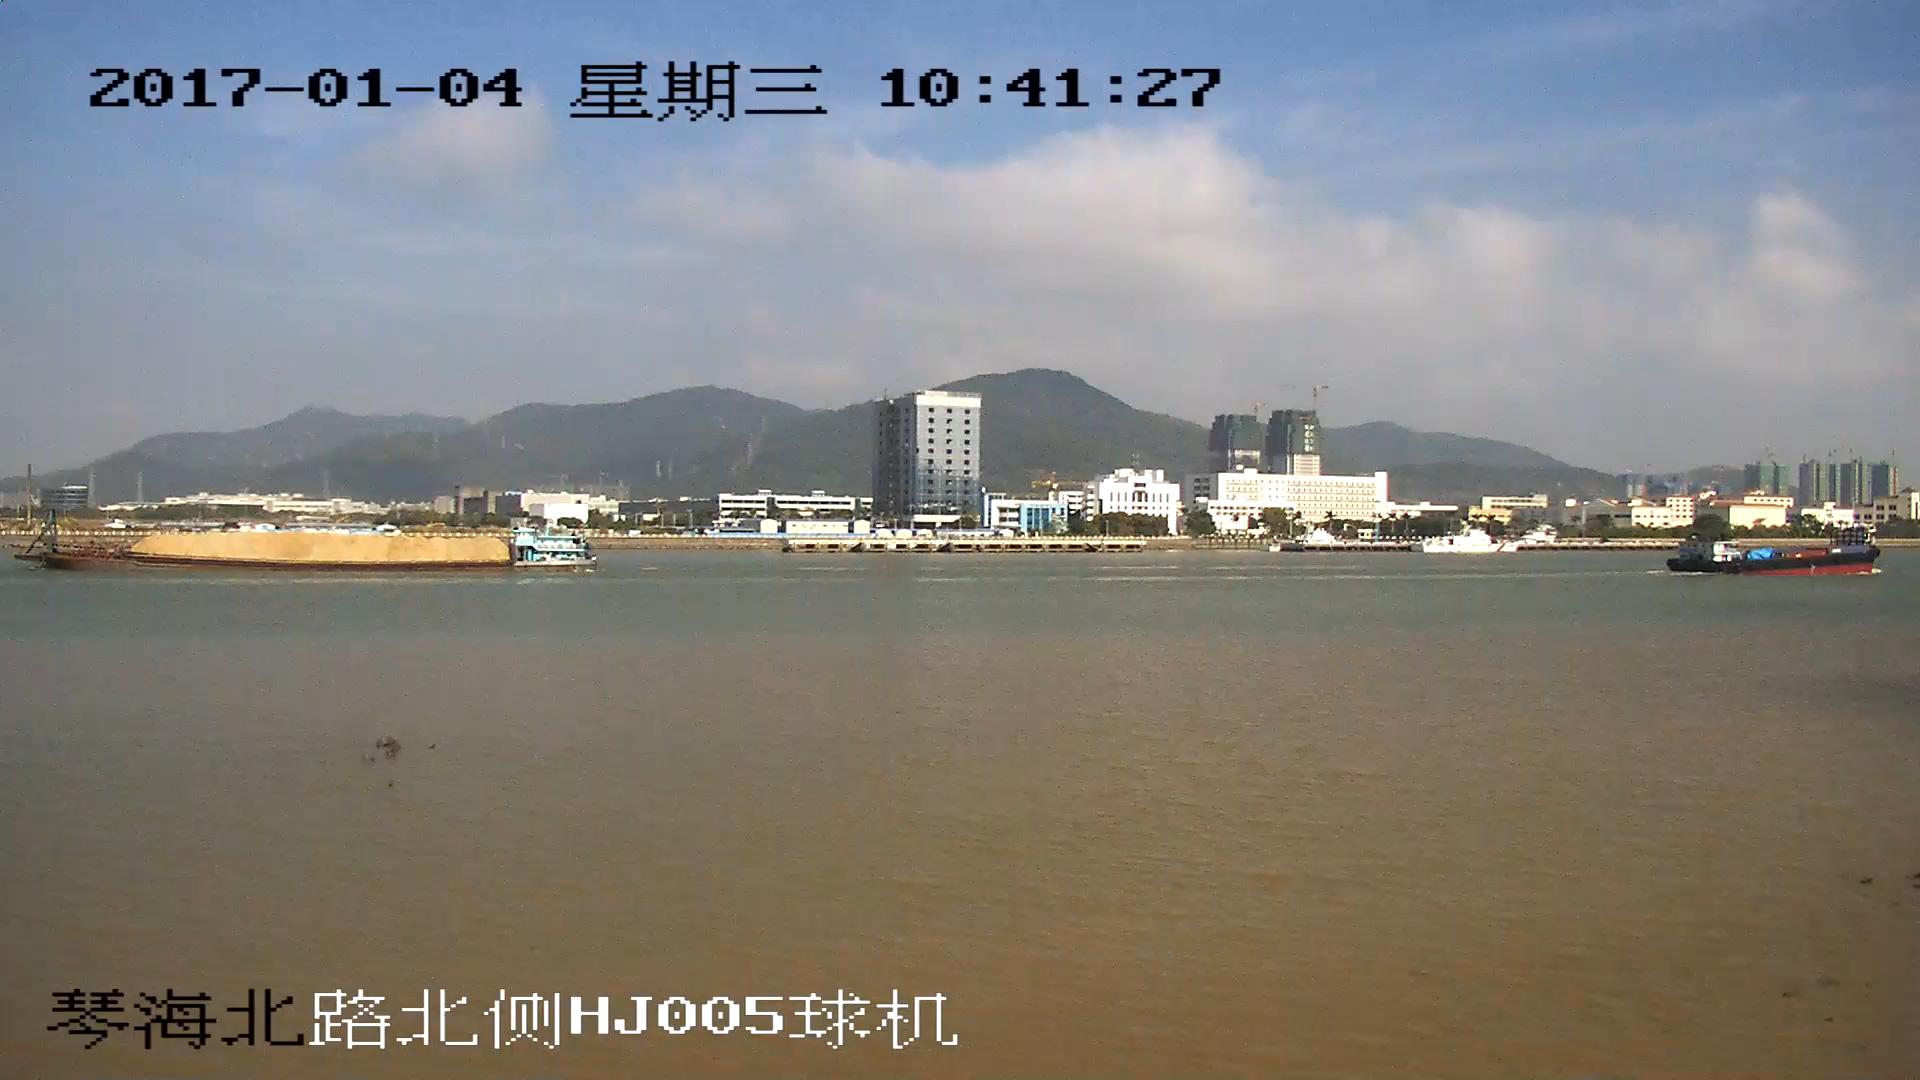container ship: (1672, 531, 1880, 575)
ore carrier: (23, 512, 603, 574)
